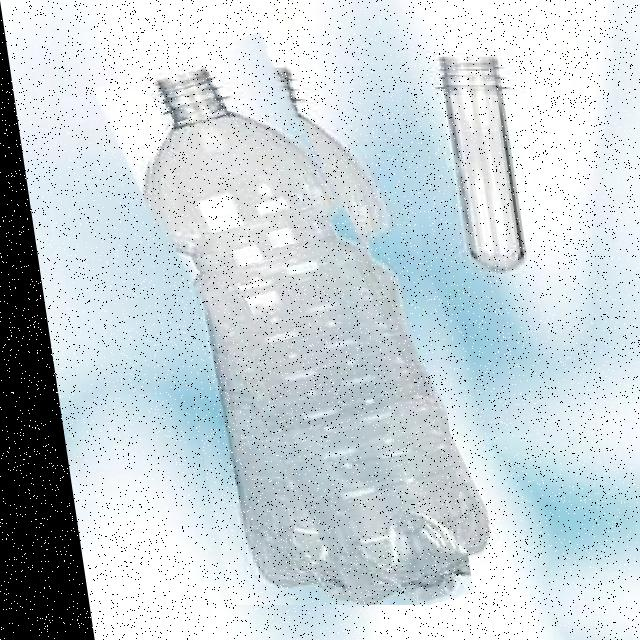plasticbottle: (124, 38, 457, 605)
